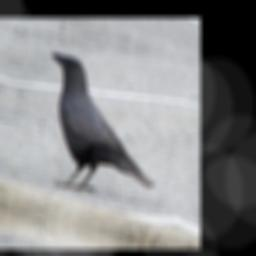Crow: (32, 51, 170, 210)
